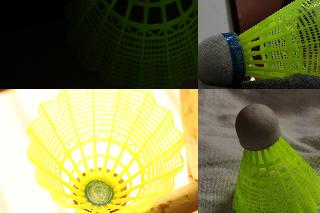shuttlecock: (26, 89, 185, 212), (64, 0, 197, 88), (198, 0, 319, 86), (232, 103, 319, 212)
